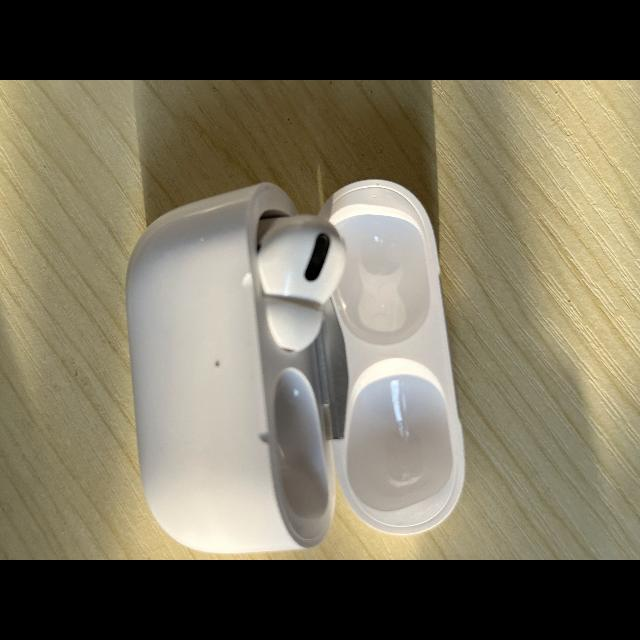AirPods Pro: (126, 179, 465, 553)
